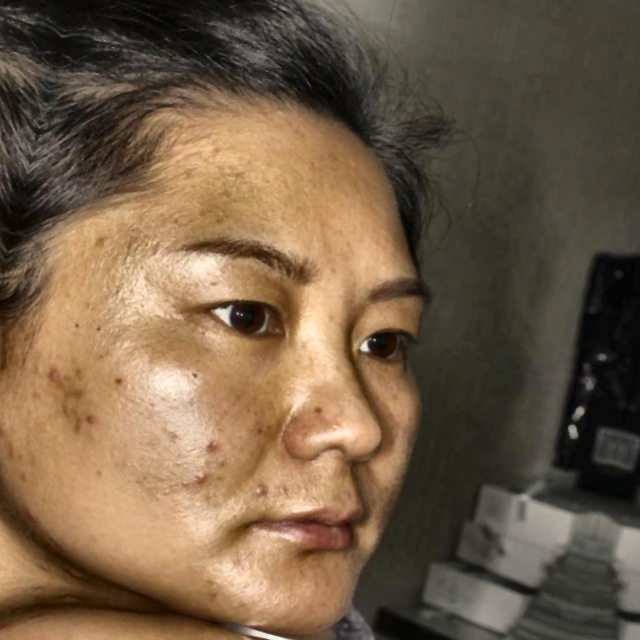comedone: (66, 407, 104, 449), (186, 459, 224, 496), (194, 430, 230, 465), (251, 479, 285, 510), (37, 362, 67, 393)
